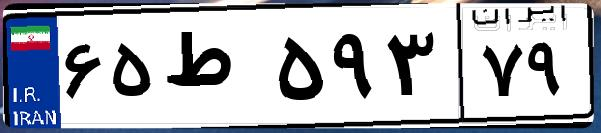3: (385, 28, 445, 110)
5: (270, 28, 330, 110), (110, 28, 158, 98)
6: (57, 26, 110, 100)
7: (475, 38, 525, 113)
9: (330, 28, 385, 110), (525, 38, 570, 115)
ط: (158, 20, 270, 120)
